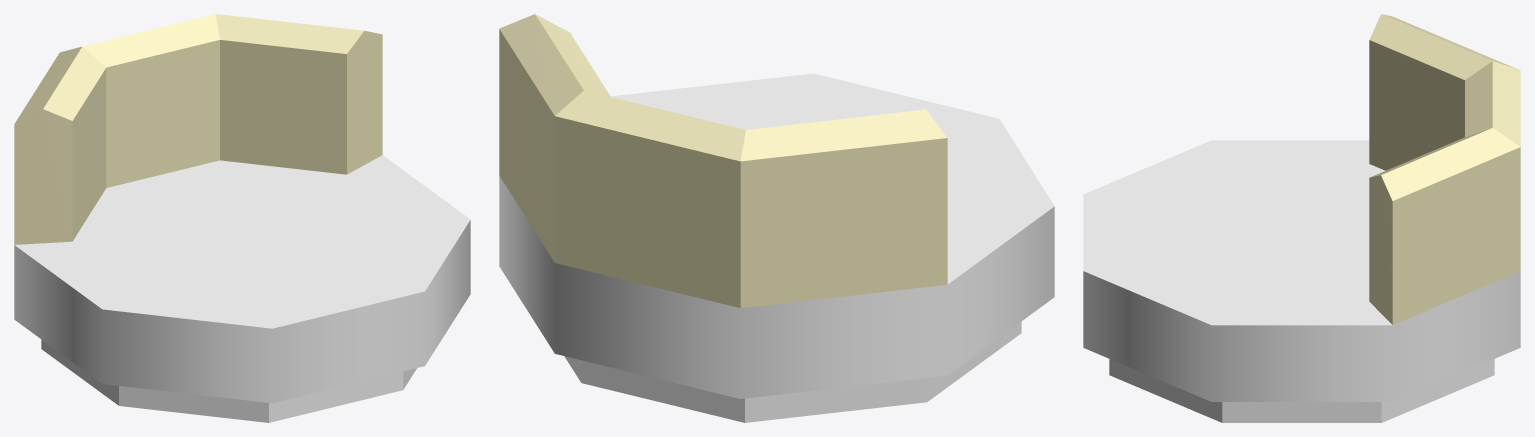
File: Itr_Barchair_Seat_02.FBX
3 views of the same model, side by side, from view 1: azimuth 30°, elevation 25°; view 2: azimuth 150°, elevation 25°; view 3: azimuth 270°, elevation 25° (orthographic). The views are drawn at different scales.
Visible parts, largest first — view 1: Itr_Barchair_Seat_02; view 2: Itr_Barchair_Seat_02; view 3: Itr_Barchair_Seat_02.
Boxes of the visible parts, x1,y1,x2,y2 form: Itr_Barchair_Seat_02: [14, 14, 470, 422]; Itr_Barchair_Seat_02: [499, 14, 1054, 422]; Itr_Barchair_Seat_02: [1083, 14, 1520, 422].
Size of the model in its own units: 16.37 by 10.19 by 16.37.
